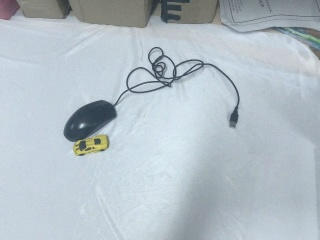box: (66, 1, 157, 30), (159, 1, 221, 25), (15, 1, 72, 20)
mouse: (62, 100, 117, 142)
toy_car: (73, 134, 110, 156)
